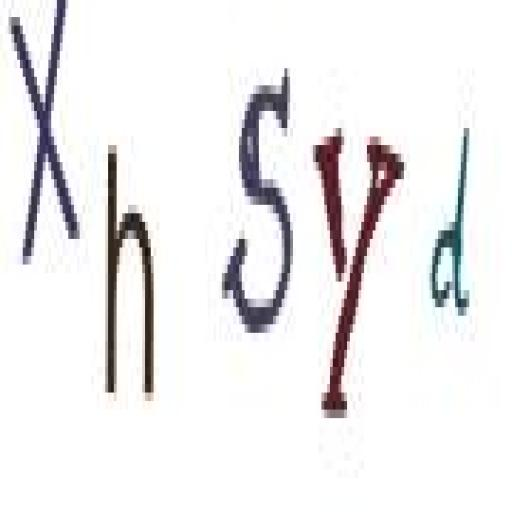S: (226, 73, 299, 342)
X: (5, 0, 88, 271)
Y: (306, 103, 408, 435)
d: (423, 116, 481, 341)
h: (102, 126, 158, 420)
